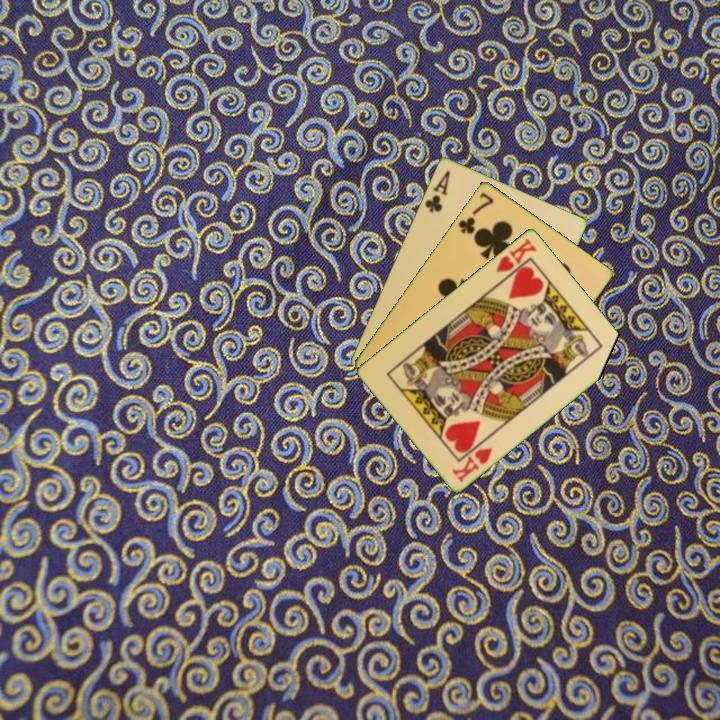7c: (454, 188, 496, 237)
Ac: (421, 166, 453, 216)
Kh: (492, 234, 540, 284), (448, 443, 495, 485)
